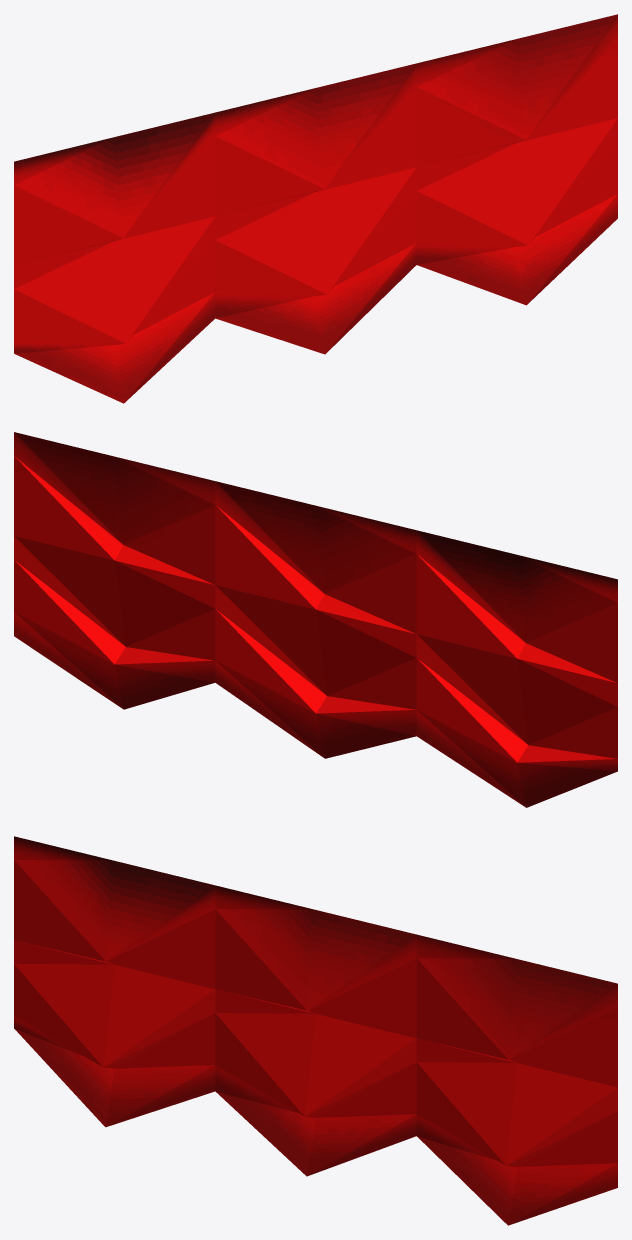
File: Vorhang_Bühne_999.glb
3 views of the same model, one above another, from view 1: azimuth 30°, elevation 25°; view 2: azimuth 150°, elevation 25°; view 3: azimuth 330°, elevation 25° (orthographic).
Parts seen in each view (by area): view 1: pPlaneShape62; view 2: pPlaneShape62; view 3: pPlaneShape62.
Part boxes in pixels (x1=…): pPlaneShape62: x1=14, y1=14, x2=617, y2=403; pPlaneShape62: x1=14, y1=432, x2=617, y2=807; pPlaneShape62: x1=14, y1=836, x2=617, y2=1225.
Bounding box in the file's own units: 0.7096 × 0.2918 × 0.0228.
1 material, 1 textured.
